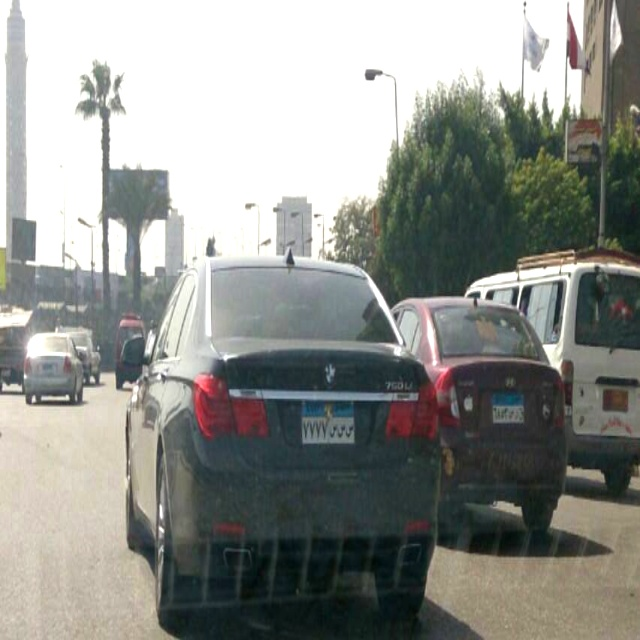License Plate: (300, 397, 355, 447)
